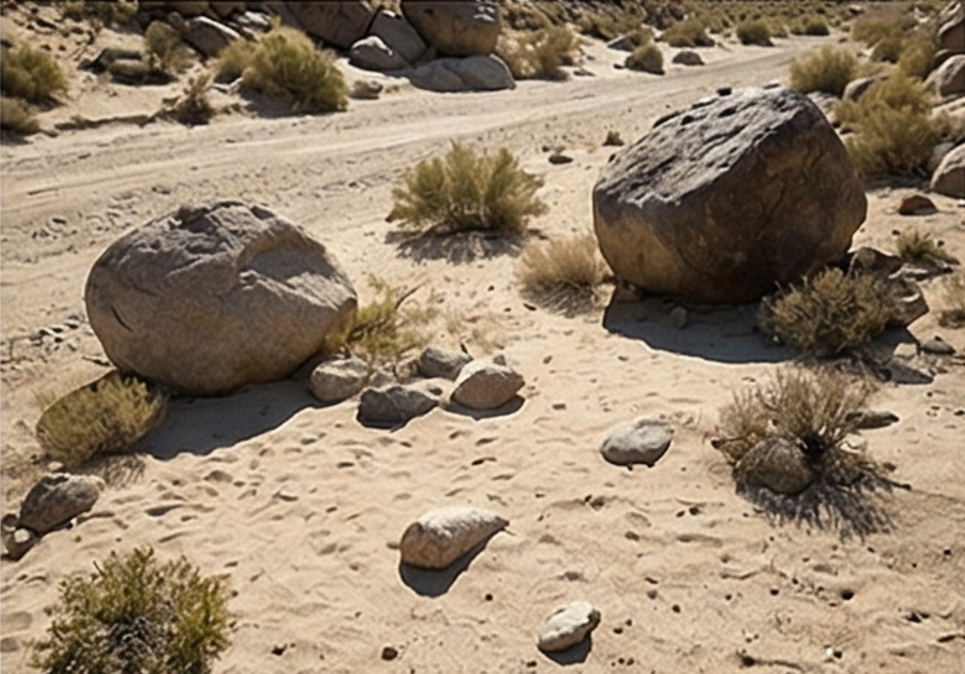rocks: (594, 89, 866, 304), (87, 201, 356, 394), (402, 506, 507, 568), (443, 358, 523, 409), (359, 384, 440, 426)
